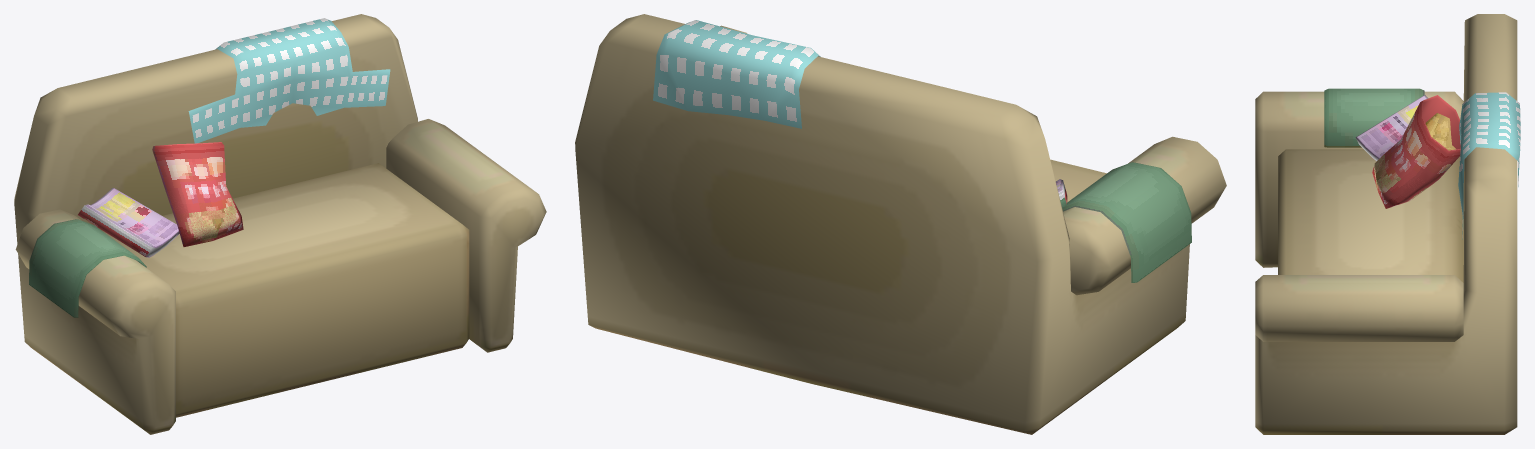
File: rmk_lse_chairL.dae
The picture shows the model from 3 angles, left to right: view 1: azimuth 30°, elevation 25°; view 2: azimuth 150°, elevation 25°; view 3: azimuth 270°, elevation 25°; orthographic projection. The views are drawn at different scales.
Parts seen in each view (by area): view 1: rmk_lse_chairL; view 2: rmk_lse_chairL; view 3: rmk_lse_chairL.
Boxes of the visible parts, x1,y1,x2,y2 form: rmk_lse_chairL: (14, 14, 546, 434); rmk_lse_chairL: (575, 14, 1226, 434); rmk_lse_chairL: (1255, 14, 1520, 434).
Bounding box in the file's own units: 59.69 × 33.4 × 30.69.
Materials: 3 (3 with a texture image).
